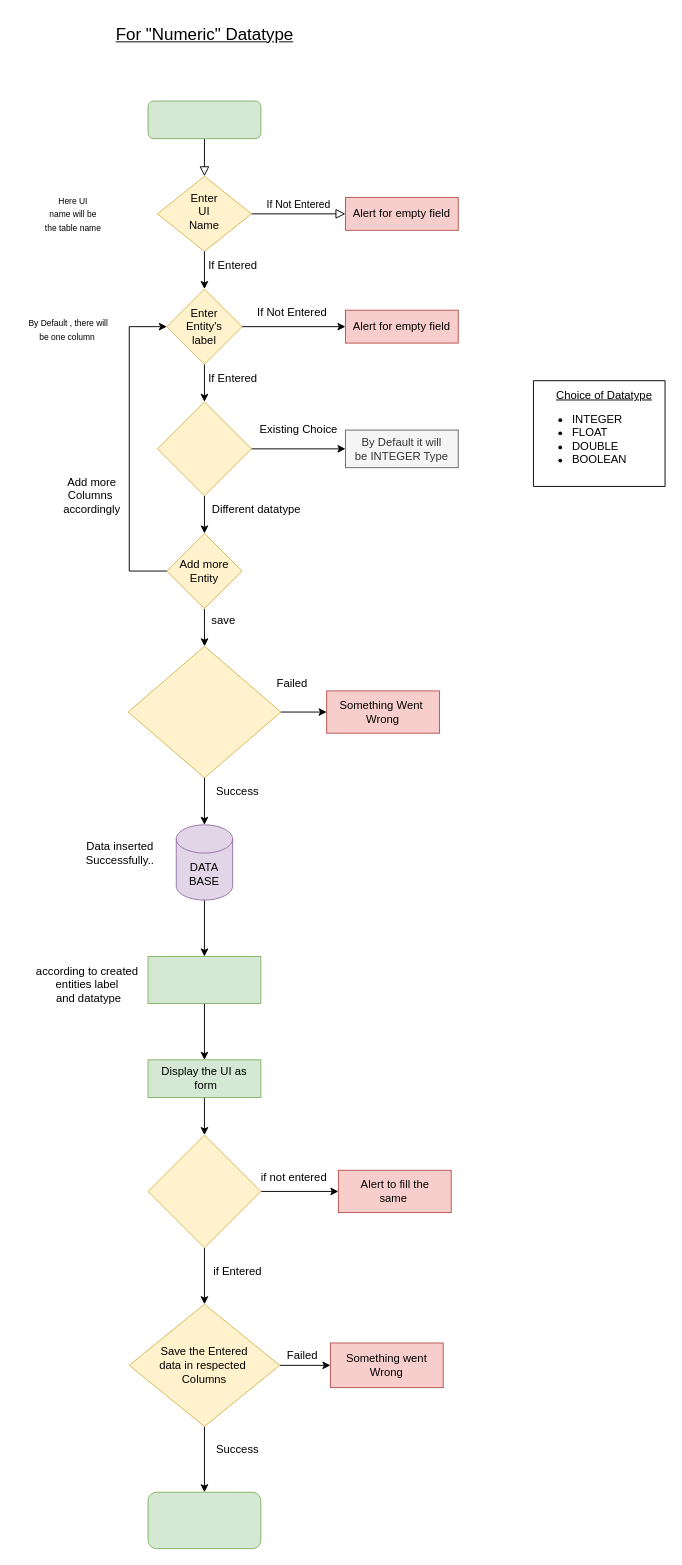
The diagram is 682 pixels wide and 1565 high, and some of its shapes have lost their labels. Here are the shapes that lost their labels. From the top down, the centre of each, then its label:
At point 204,119: "Start".
At point 204,448: "Choose Entity's Data Type".
At point 204,711: "Save and send the all entries to backend and local database".
At point 204,979: "Dynamic UI generation".
At point 204,1191: "Enter the data in form's fields".
At point 204,1520: "Created Successfully".
